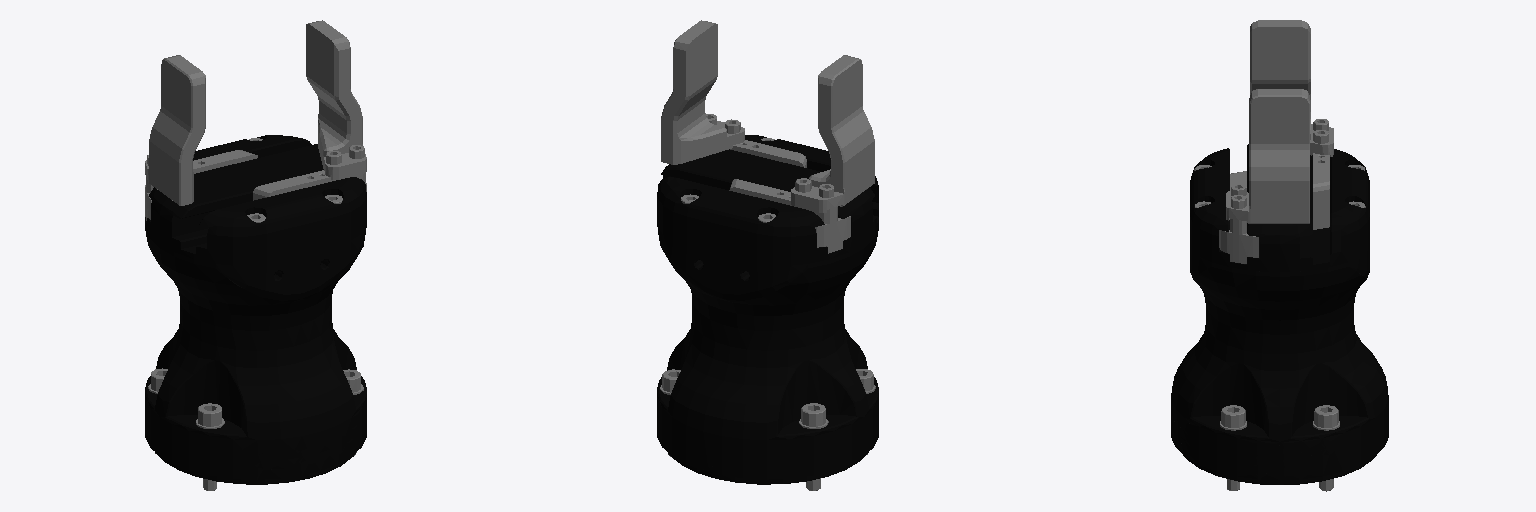
URDF robot description (robotiq_hand-e):
?<?xml version="1.0" encoding="utf-8"?>
<robot name="robotiq_hand-e">
  <material name="rep_BlackMetal">
    <color rgba="0.0634 0.0634 0.0634 1" />
  </material>
  <material name="rep_Chrome">
    <color rgba="0.5 0.5 0.5 1" />
  </material>
  <link name="base">
    <inertial>
      <origin rpy="0 0 0" xyz="0 0 0.050025" />
      <mass value="1" />
      <inertia ixx="0.0011831687297672" ixy="0" ixz="0" iyy="0.0011831687297672" iyz="0" izz="0.000698003452271223" />
    </inertial>
    <visual name="Housing">
      <geometry>
        <mesh filename="package://robotiq_hand-e/meshes/Housing.stl" scale="0.01 0.01 0.01" />
      </geometry>
      <material name="rep_BlackMetal" />
    </visual>
    <visual name="Bolts">
      <origin xyz="0 0 0.04595" />
      <geometry>
        <mesh filename="package://robotiq_hand-e/meshes/Bolts.stl" scale="0.01 0.01 0.01" />
      </geometry>
      <material name="rep_Chrome" />
    </visual>
    <collision name="Housing_Collision_1">
      <origin xyz="0 0 0.050025" />
      <geometry>
        <cylinder length="0.10005" radius="0.0375" />
      </geometry>
    </collision>
  </link>
  <link name="FingerA">
    <inertial>
      <origin rpy="0 0 0" xyz="0.0141 0.0051 0.0129" />
      <mass value="0.0450000018" />
      <inertia ixx="6.51374875815236E-06" ixy="0" ixz="0" iyy="4.99499947181903E-06" iyz="0" izz="1.78874961420661E-06" />
    </inertial>
    <visual name="FingerA_Visual">
      <geometry>
        <mesh filename="package://robotiq_hand-e/meshes/FingerA.stl" scale="0.01 0.01 0.01" />
      </geometry>
      <material name="rep_Chrome" />
    </visual>
    <collision name="FingerA_col_1">
      <origin xyz="0.0141 0.0051 0.0129" />
      <geometry>
        <box size="0.006 0.021 0.036" />
      </geometry>
    </collision>
  </link>
  <link name="FingerB">
    <inertial>
      <origin rpy="0 0 0" xyz="-0.0141 -0.0051 0.0129" />
      <mass value="0.0450000018" />
      <inertia ixx="6.51374875815236E-06" ixy="0" ixz="0" iyy="4.99499947181903E-06" iyz="0" izz="1.78874961420661E-06" />
    </inertial>
    <visual name="FingerB_Visual">
      <geometry>
        <mesh filename="package://robotiq_hand-e/meshes/FingerB.stl" scale="0.01 0.01 0.01" />
      </geometry>
      <material name="rep_Chrome" />
    </visual>
    <collision name="FingerB_col_1">
      <origin xyz="-0.0141 -0.0051 0.0129" />
      <geometry>
        <box size="0.006 0.021 0.036" />
      </geometry>
    </collision>
  </link>
  <joint name="j_FingerA" type="prismatic">
    <origin xyz="0.013914 -0.00523 0.11505" />
    <parent link="base" />
    <child link="FingerA" />
    <axis xyz="-1 0 0" />
    <limit lower="0" upper="0.025" effort="1000" velocity="1000" />
  </joint>
  <joint name="j_FingerB" type="prismatic">
    <origin xyz="-0.013914 0.00523 0.11505" />
    <parent link="base" />
    <child link="FingerB" />
    <axis xyz="1 0 0" />
    <limit lower="0" upper="0.025" effort="1000" velocity="1000" />
  </joint>
</robot>

--- What the picture shows (computed from the rendered views, not written in the file) ---
3 views of the same robot in one strip: view 1: azimuth 30°, elevation 25°; view 2: azimuth 150°, elevation 25°; view 3: azimuth 270°, elevation 25° (orthographic).
Robot: robotiq_hand-e — 3 links, 2 joints (2 prismatic); root link base; default pose: every joint at zero.
Links seen in each view (by area): view 1: base, FingerA, FingerB; view 2: base, FingerB, FingerA; view 3: base, FingerA, FingerB.
Link boxes in pixels (x1,y1,x2,y2): base: [145, 135, 366, 490]; FingerA: [253, 20, 366, 200]; FingerB: [145, 55, 257, 220]; base: [657, 135, 878, 490]; FingerB: [729, 55, 874, 253]; FingerA: [661, 20, 806, 167]; base: [1171, 144, 1388, 491]; FingerA: [1219, 89, 1309, 263]; FingerB: [1250, 20, 1333, 229].
Size in the robot's own frame: 0.075 by 0.075 by 0.1511 metres.
4 mesh visuals loaded from 4 distinct referenced files (4 binary STL).